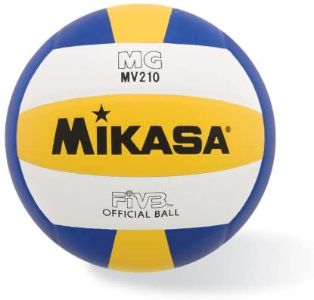voleibol: (6, 3, 276, 271)
